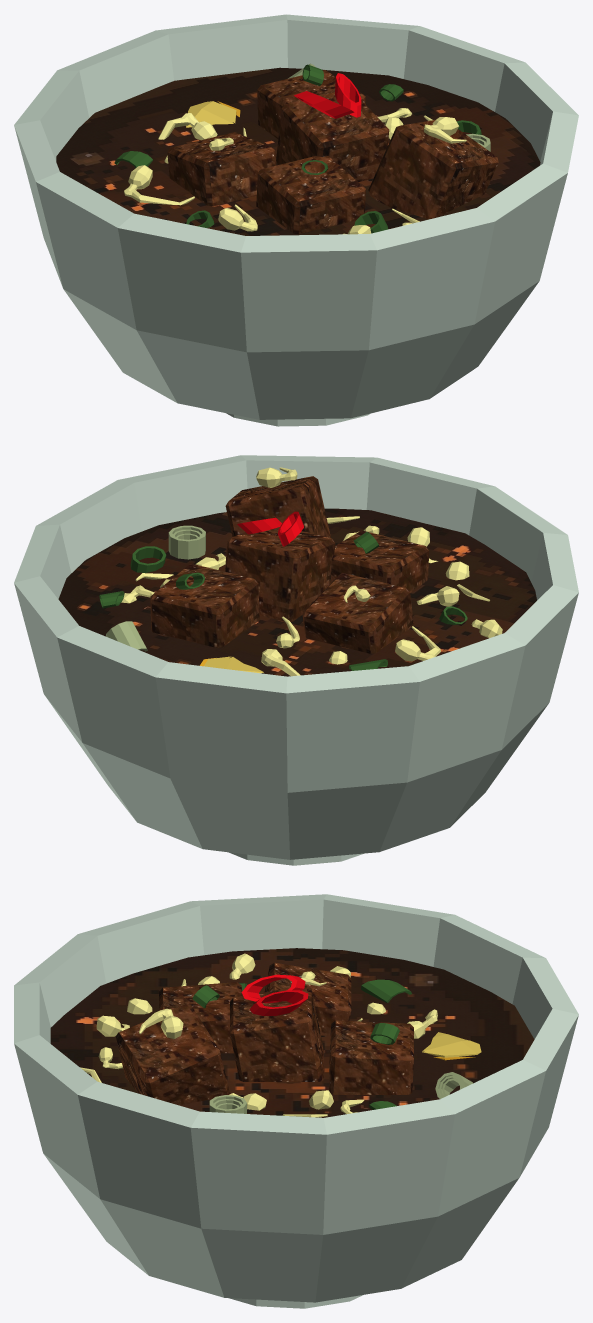
File: Mangkok_Rawon.glb
The picture shows the model from 3 angles, top to bottom: view 1: azimuth 30°, elevation 25°; view 2: azimuth 150°, elevation 25°; view 3: azimuth 270°, elevation 25°; orthographic projection.
Visible parts, largest first — view 1: Base Mangkok, Daging Rawon, Kuah Rawon, Tauge, Daun Bawang, Cabe Merah, Telur Asin; view 2: Base Mangkok, Daging Rawon, Kuah Rawon, Tauge, Daun Bawang, Cabe Merah, Telur Asin; view 3: Base Mangkok, Kuah Rawon, Daging Rawon, Tauge, Daun Bawang, Cabe Merah, Telur Asin.
Boxes of the visible parts, <box> form: Base Mangkok: <box>14,14,578,426</box>; Daging Rawon: <box>167,70,498,234</box>; Kuah Rawon: <box>56,67,540,235</box>; Tauge: <box>124,108,466,234</box>; Daun Bawang: <box>114,63,490,233</box>; Cabe Merah: <box>294,73,361,118</box>; Telur Asin: <box>186,101,240,127</box>; Base Mangkok: <box>14,455,578,865</box>; Daging Rawon: <box>150,476,429,653</box>; Kuah Rawon: <box>58,508,536,676</box>; Tauge: <box>121,467,502,676</box>; Daun Bawang: <box>99,525,467,670</box>; Cabe Merah: <box>237,511,303,546</box>; Telur Asin: <box>199,656,263,673</box>; Base Mangkok: <box>14,894,578,1308</box>; Kuah Rawon: <box>50,948,534,1117</box>; Daging Rawon: <box>116,962,413,1105</box>; Tauge: <box>80,953,437,1117</box>; Daun Bawang: <box>192,979,473,1115</box>; Cabe Merah: <box>241,974,308,1015</box>; Telur Asin: <box>422,1032,481,1060</box>.
Size of the model in its own units: 1.89 by 1.08 by 1.87.
10 materials, 2 textured.
